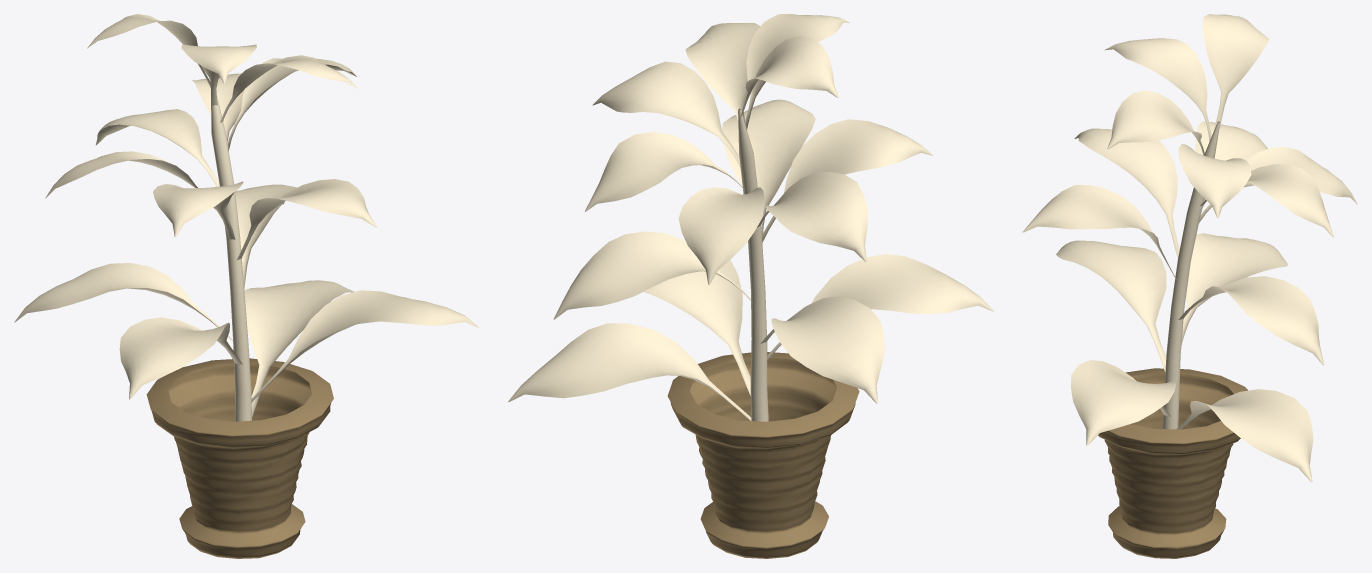
The model's file is M_Planta Grande.fbx.
The picture shows the model from 3 angles, left to right: view 1: azimuth 30°, elevation 25°; view 2: azimuth 150°, elevation 25°; view 3: azimuth 270°, elevation 25°; orthographic projection. The views are drawn at different scales.
Visible parts, largest first — view 1: Planta1:Planta_matera3materasrubberPlantPotted1Leaf, Planta, Planta1:rubberPlantPotted1MainPlanta_matera3materas; view 2: Planta1:Planta_matera3materasrubberPlantPotted1Leaf, Planta, Planta1:rubberPlantPotted1MainPlanta_matera3materas; view 3: Planta1:Planta_matera3materasrubberPlantPotted1Leaf, Planta, Planta1:rubberPlantPotted1MainPlanta_matera3materas.
Boxes of the visible parts, <box> form: Planta1:Planta_matera3materasrubberPlantPotted1Leaf: <box>14,14,479,416</box>; Planta: <box>146,358,333,558</box>; Planta1:rubberPlantPotted1MainPlanta_matera3materas: <box>211,94,251,421</box>; Planta1:Planta_matera3materasrubberPlantPotted1Leaf: <box>508,14,993,420</box>; Planta: <box>667,352,859,558</box>; Planta1:rubberPlantPotted1MainPlanta_matera3materas: <box>738,108,768,421</box>; Planta1:Planta_matera3materasrubberPlantPotted1Leaf: <box>1022,14,1357,481</box>; Planta: <box>1098,368,1247,558</box>; Planta1:rubberPlantPotted1MainPlanta_matera3materas: <box>1162,121,1220,429</box>.
Size of the model in its own units: 12.55 by 17.16 by 10.55.
